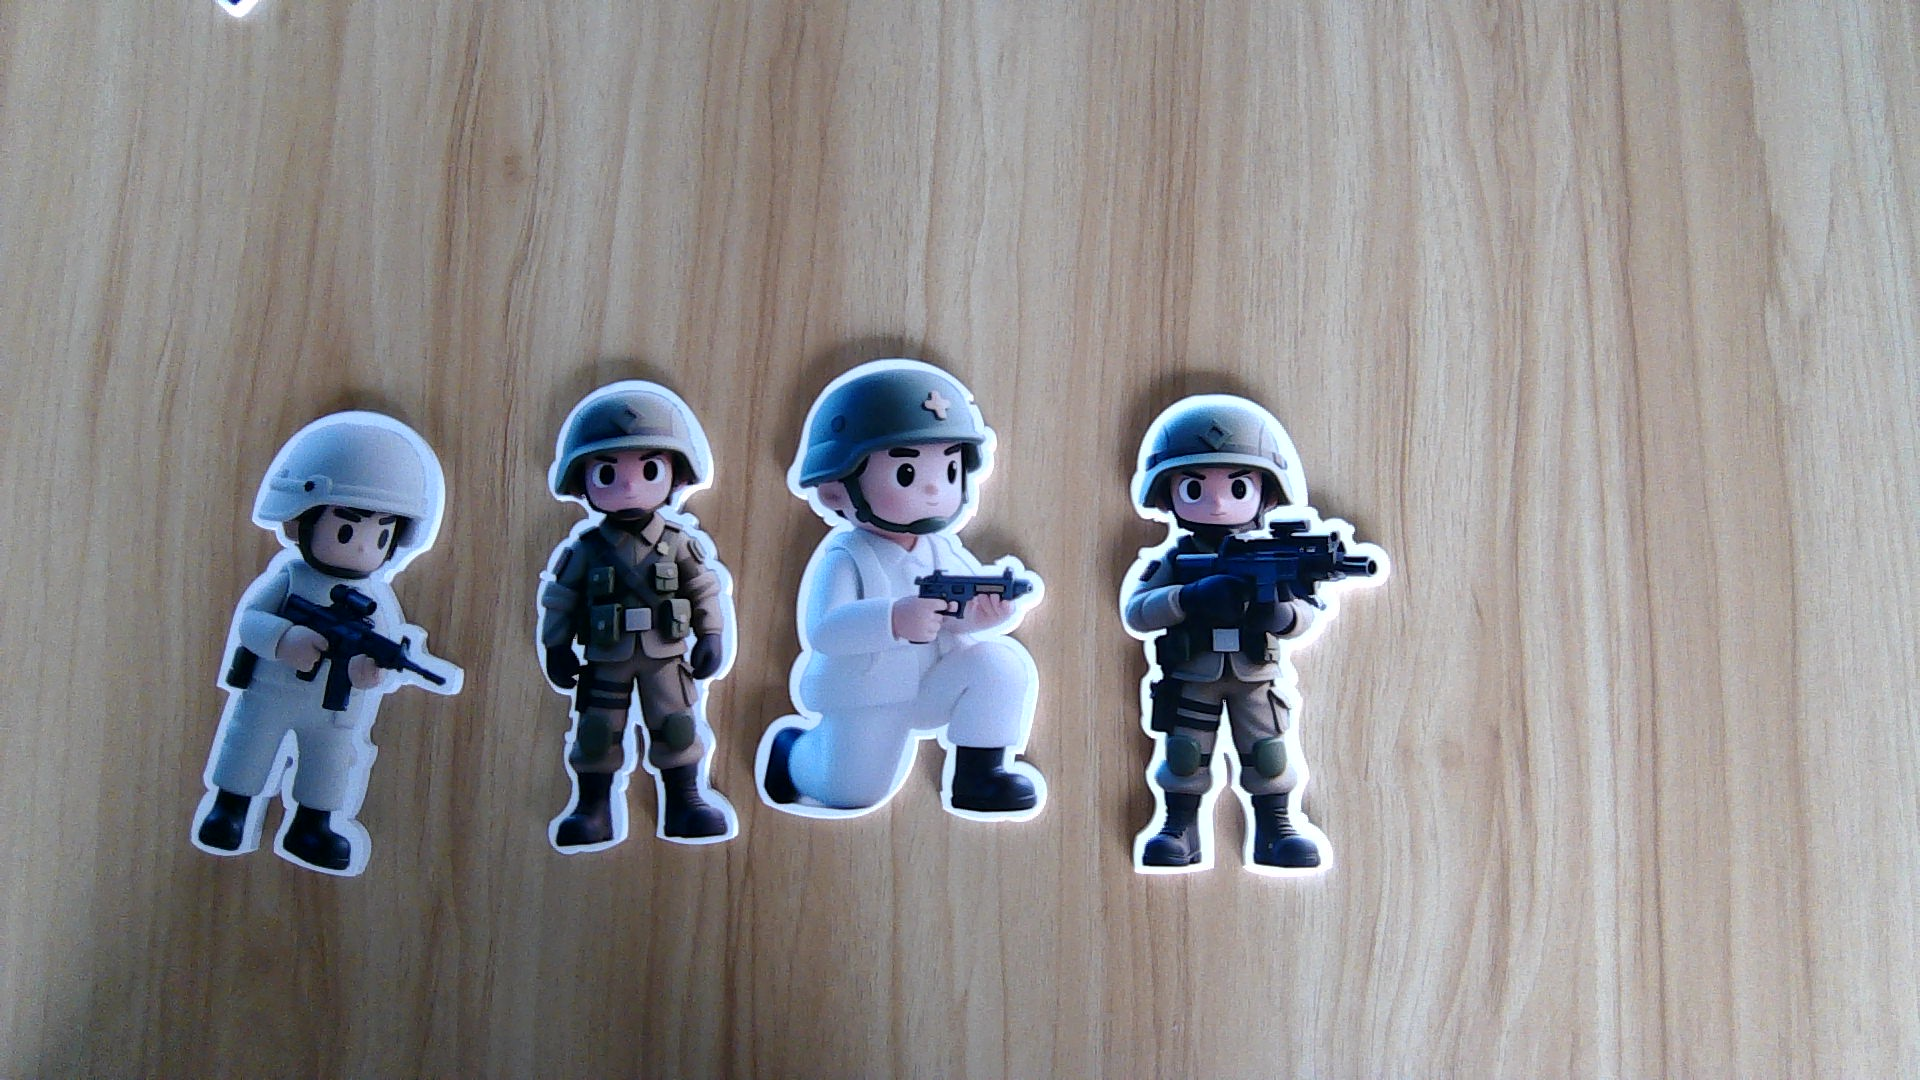人质: (752, 531, 1055, 828), (179, 570, 464, 882)
友军: (1106, 531, 1394, 885), (527, 506, 746, 849)
